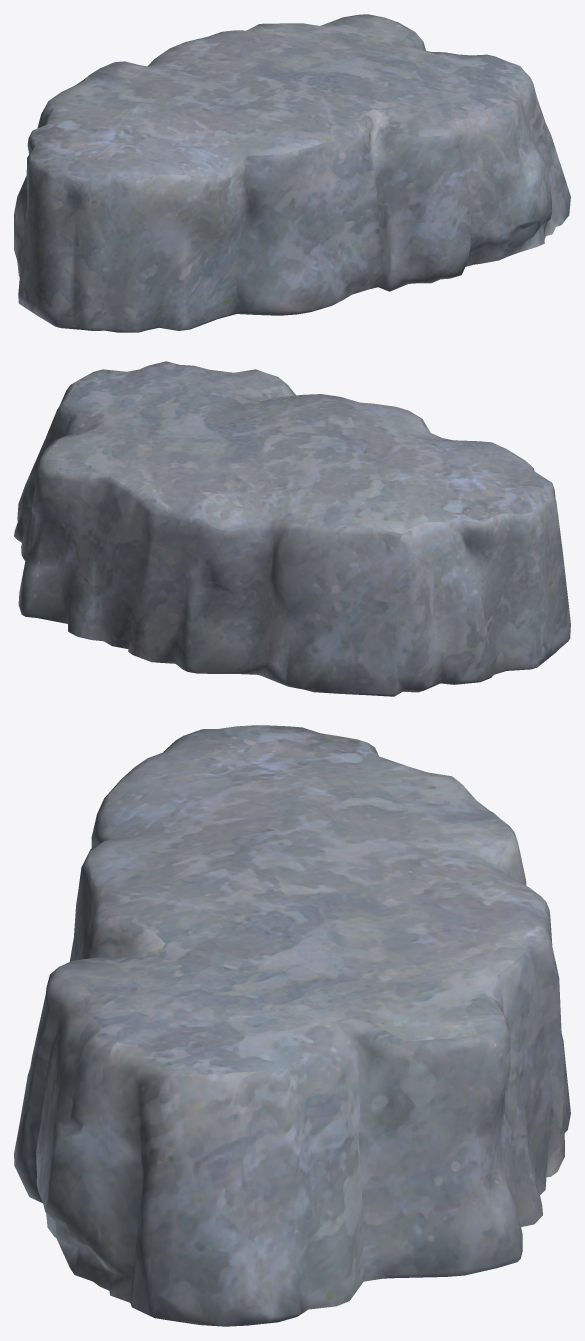
The model's file is Area_Ly_Stone_LYG_Full_M_07.fbx.
The picture shows the model from 3 angles, top to bottom: view 1: azimuth 30°, elevation 25°; view 2: azimuth 150°, elevation 25°; view 3: azimuth 270°, elevation 25°; orthographic projection. The views are drawn at different scales.
Visible parts, largest first — view 1: Area_Ly_Stone_LYG_Full_M_07_Lod0; view 2: Area_Ly_Stone_LYG_Full_M_07_Lod0; view 3: Area_Ly_Stone_LYG_Full_M_07_Lod0.
Boxes of the visible parts, bbox=[...] form: Area_Ly_Stone_LYG_Full_M_07_Lod0: bbox=[14, 14, 570, 332]; Area_Ly_Stone_LYG_Full_M_07_Lod0: bbox=[14, 361, 570, 696]; Area_Ly_Stone_LYG_Full_M_07_Lod0: bbox=[14, 725, 570, 1326].
Size of the model in its own units: 111 by 33.2 by 66.93.
1 material, 1 textured.
